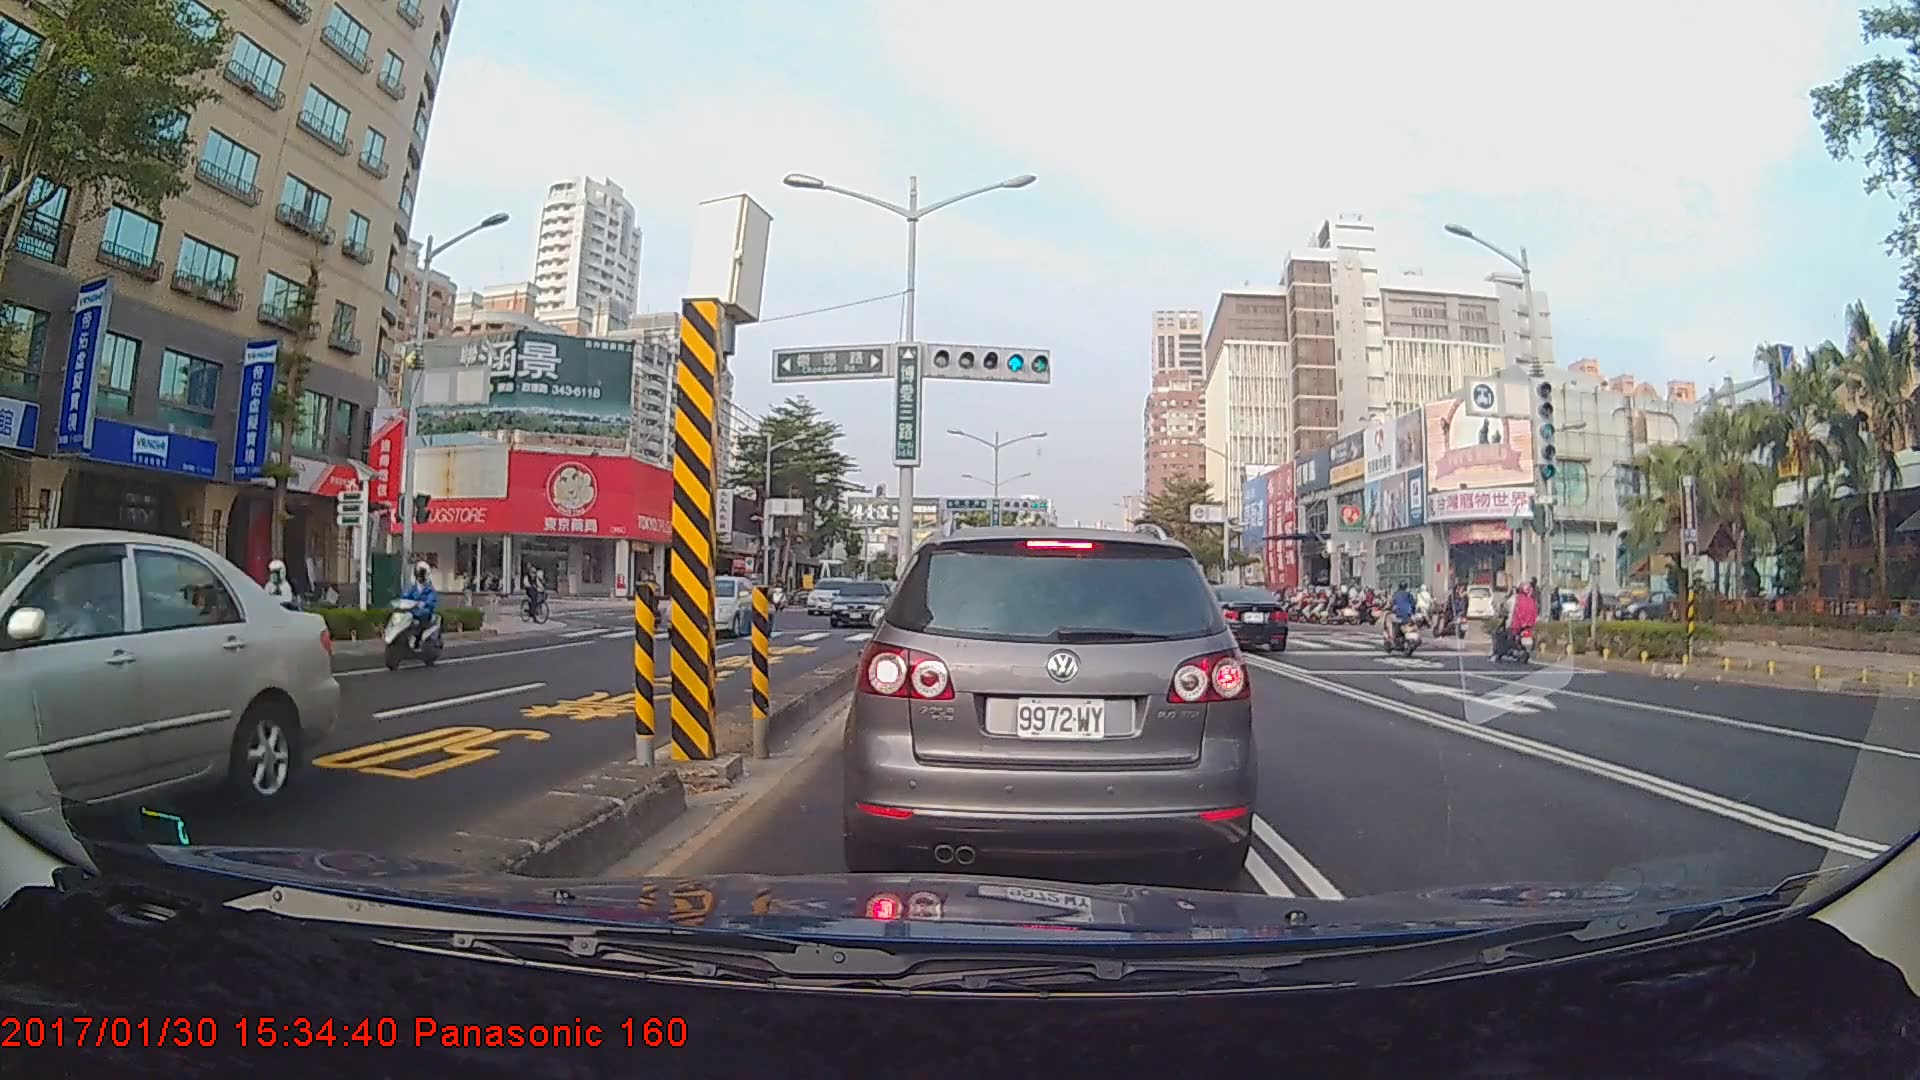rider: (377, 556, 455, 670), (1485, 582, 1548, 668), (1378, 580, 1432, 657), (518, 559, 561, 629), (1436, 582, 1473, 646)
vehicle: (854, 522, 1247, 883), (0, 525, 339, 877), (1181, 582, 1289, 654), (660, 574, 764, 638), (827, 577, 898, 628), (806, 576, 860, 616)
